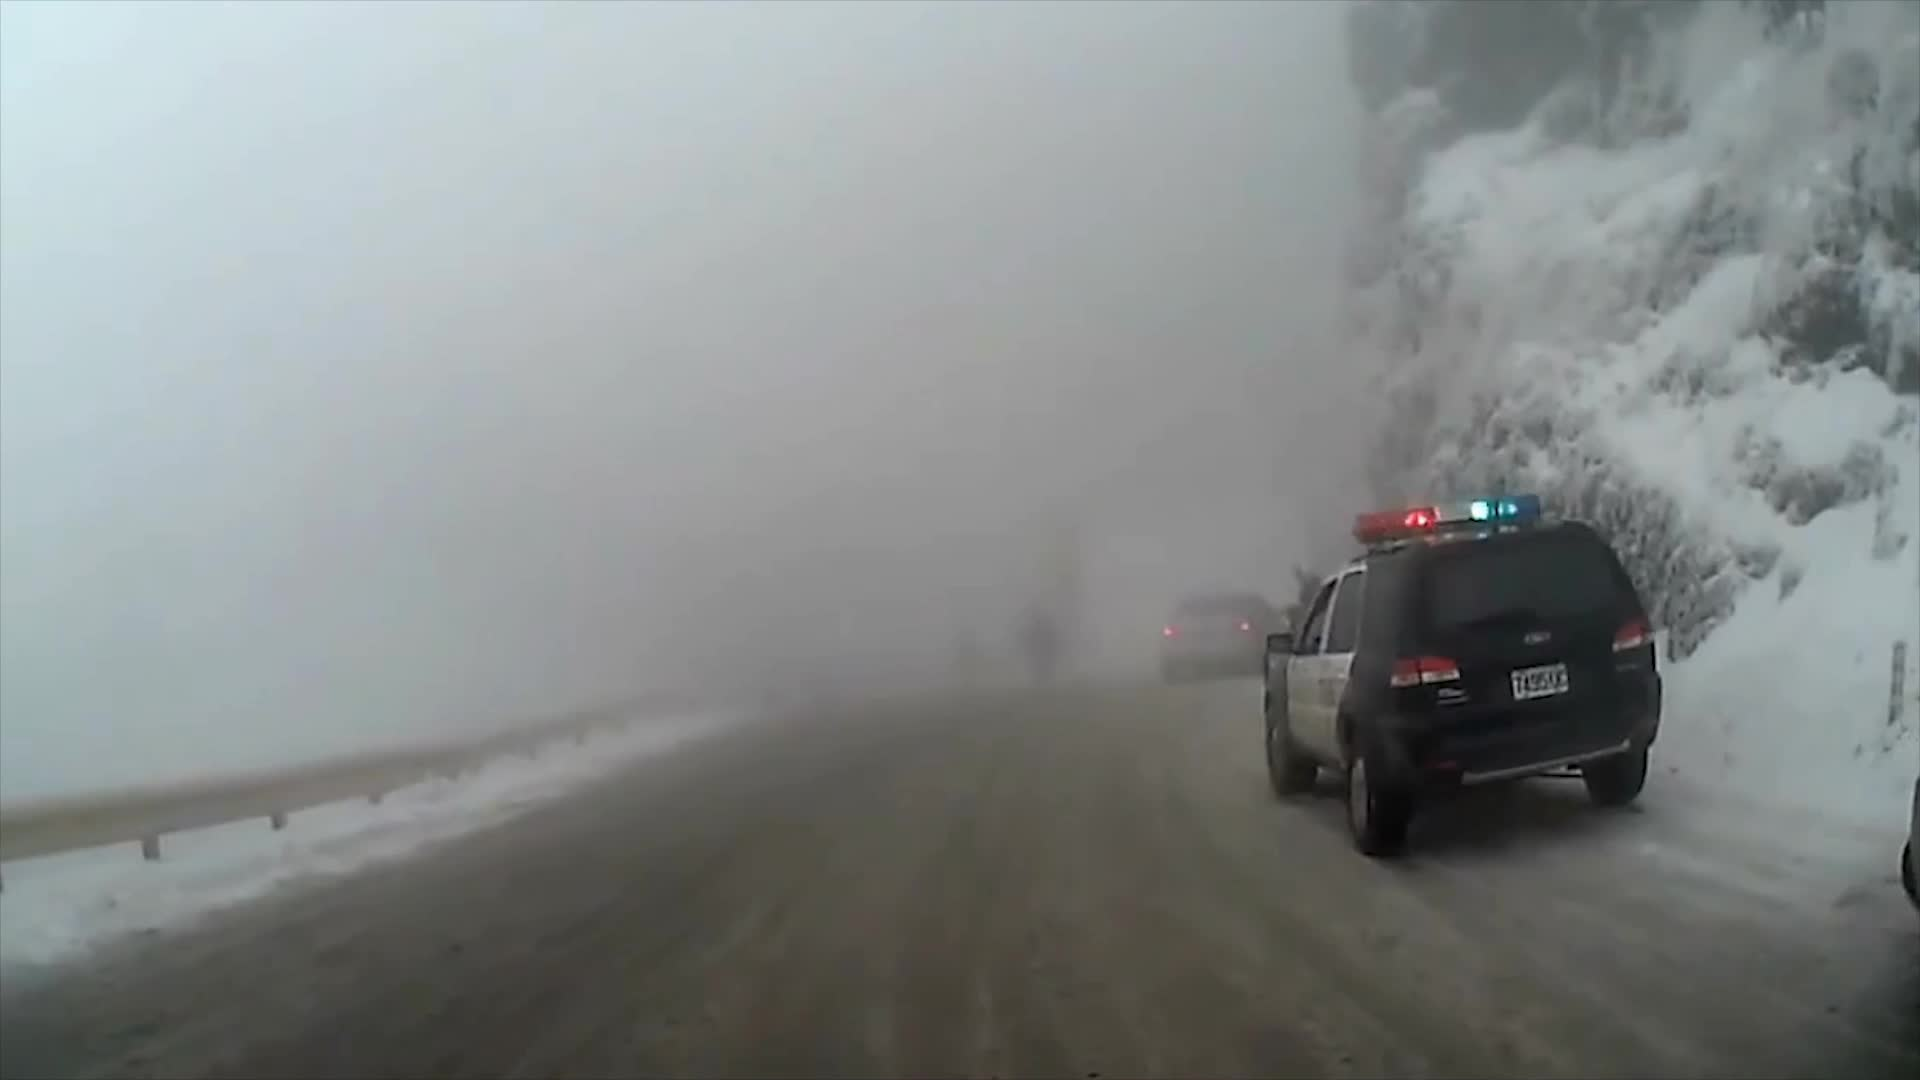vehicle: (1259, 489, 1662, 856), (1158, 592, 1286, 684)
